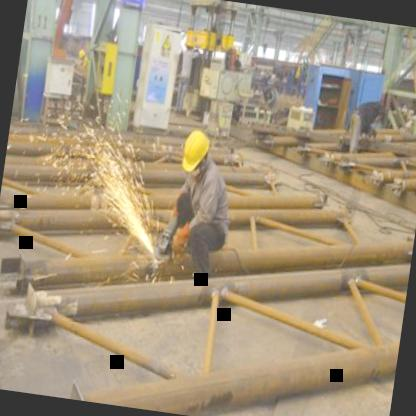helmet: (176, 123, 214, 183)
